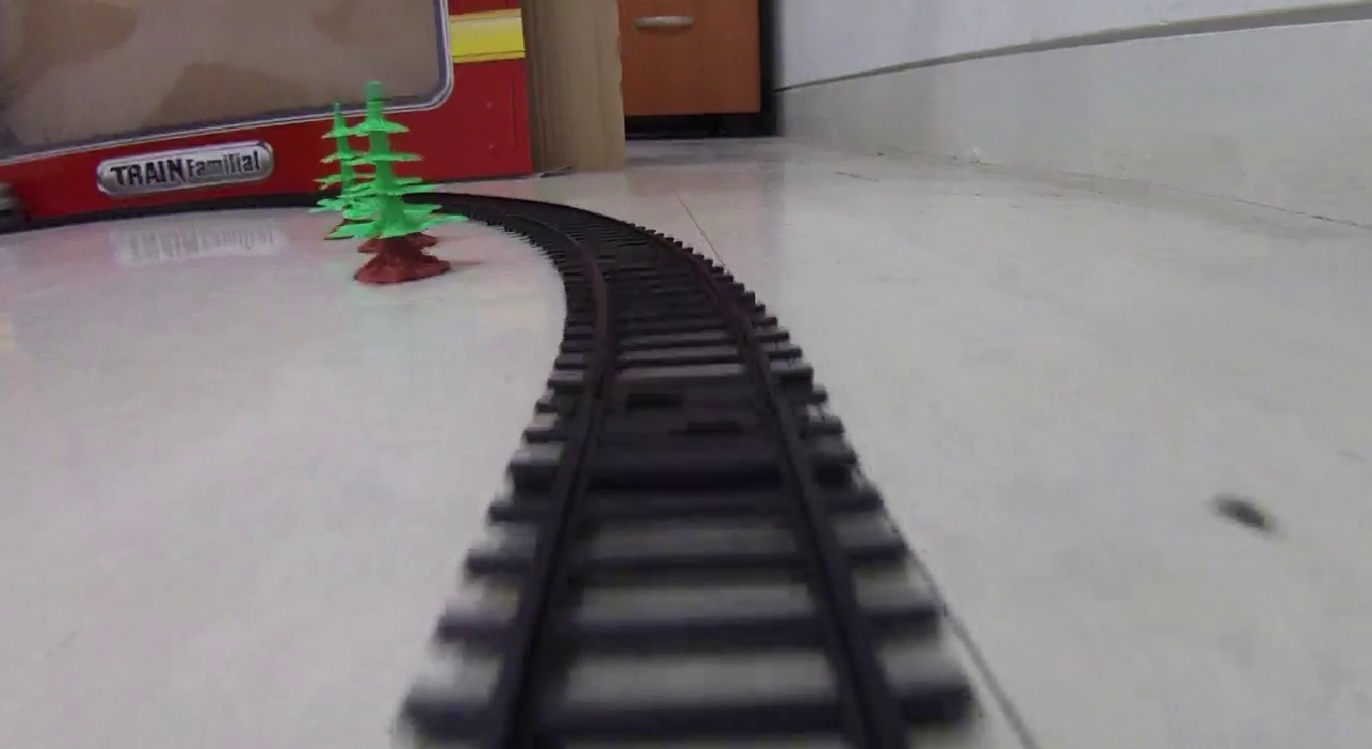tree: (349, 84, 450, 282)
